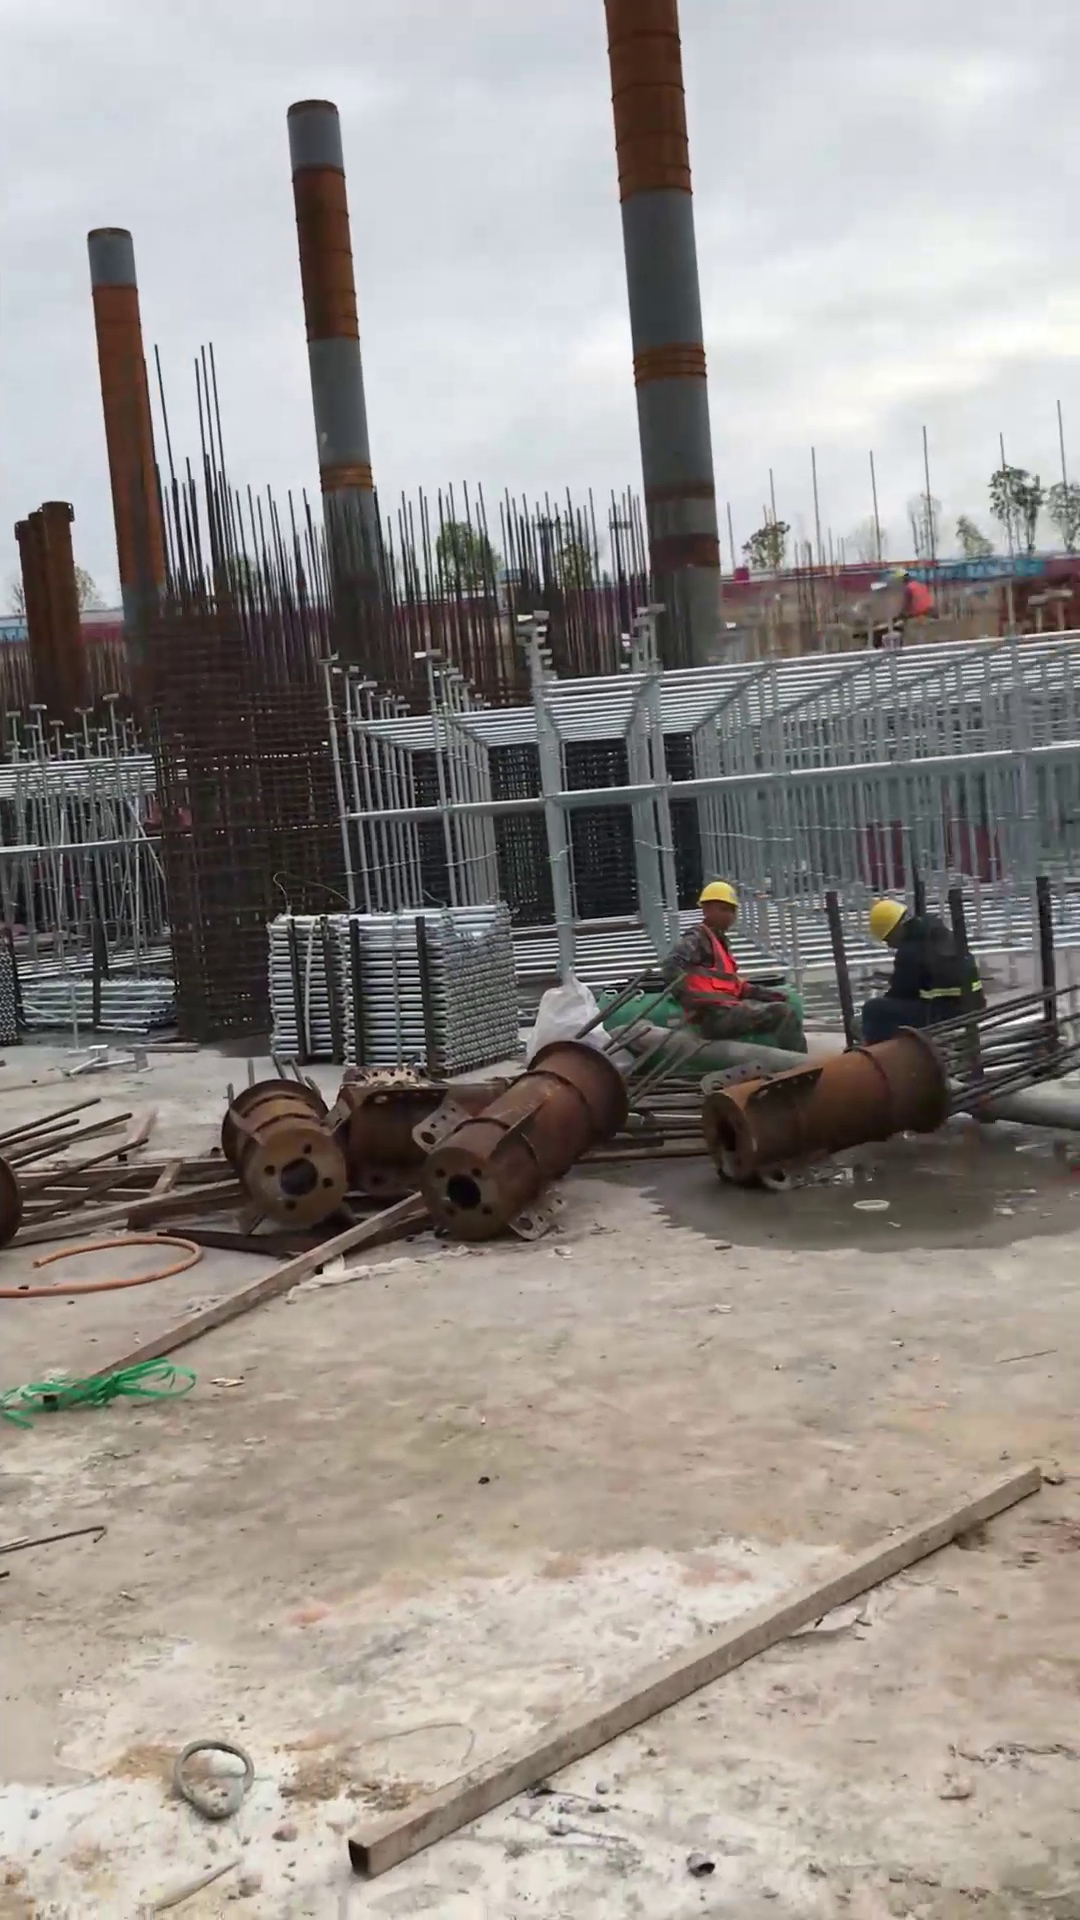helmet: (692, 876, 745, 918), (866, 897, 905, 944), (887, 565, 910, 592)
person: (665, 874, 816, 1060), (839, 890, 999, 1055), (882, 558, 949, 644)
scaffold: (252, 884, 542, 1077)
slogan: (956, 562, 1038, 578)
vest: (674, 923, 752, 1011), (902, 574, 939, 623)
